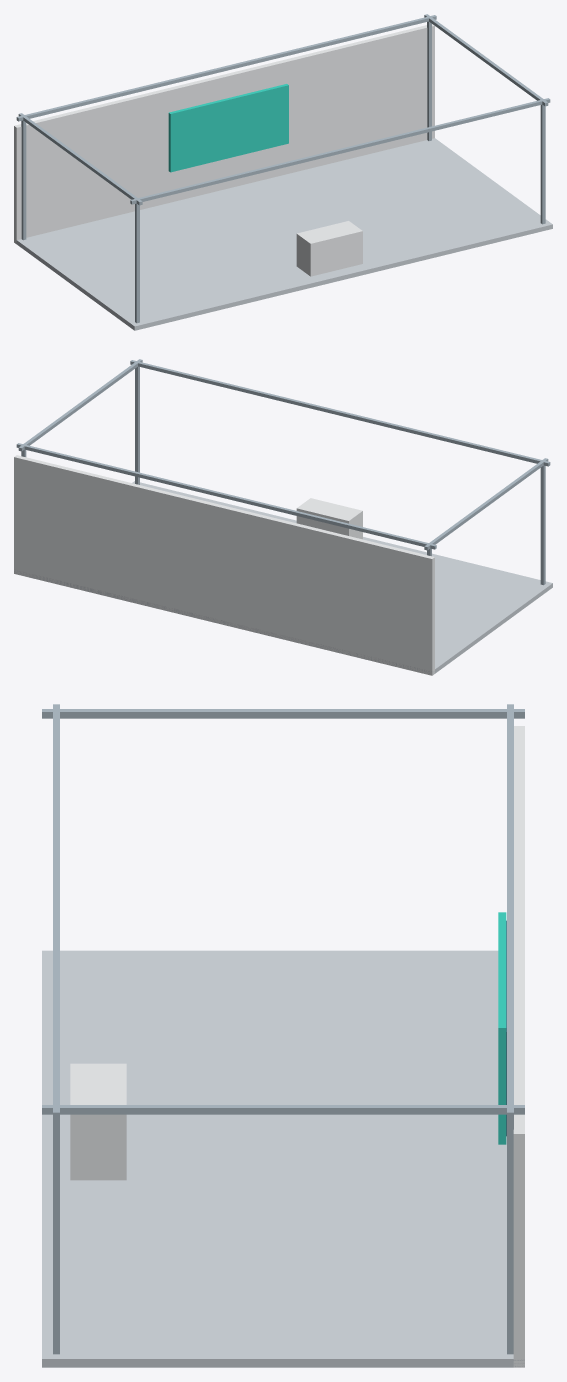
3 views of the same model, one above another, from view 1: azimuth 30°, elevation 25°; view 2: azimuth 150°, elevation 25°; view 3: azimuth 270°, elevation 25° (orthographic). The views are drawn at different scales.
Parts seen in each view (by area): view 1: Exhibition Booth Concept; view 2: Exhibition Booth Concept; view 3: Exhibition Booth Concept.
Part boxes in pixels (<box>): Exhibition Booth Concept: <box>14,14,552,330</box>; Exhibition Booth Concept: <box>14,359,552,675</box>; Exhibition Booth Concept: <box>42,704,524,1367</box>.
Size of the model in its own units: 12 by 3.49 by 6.
